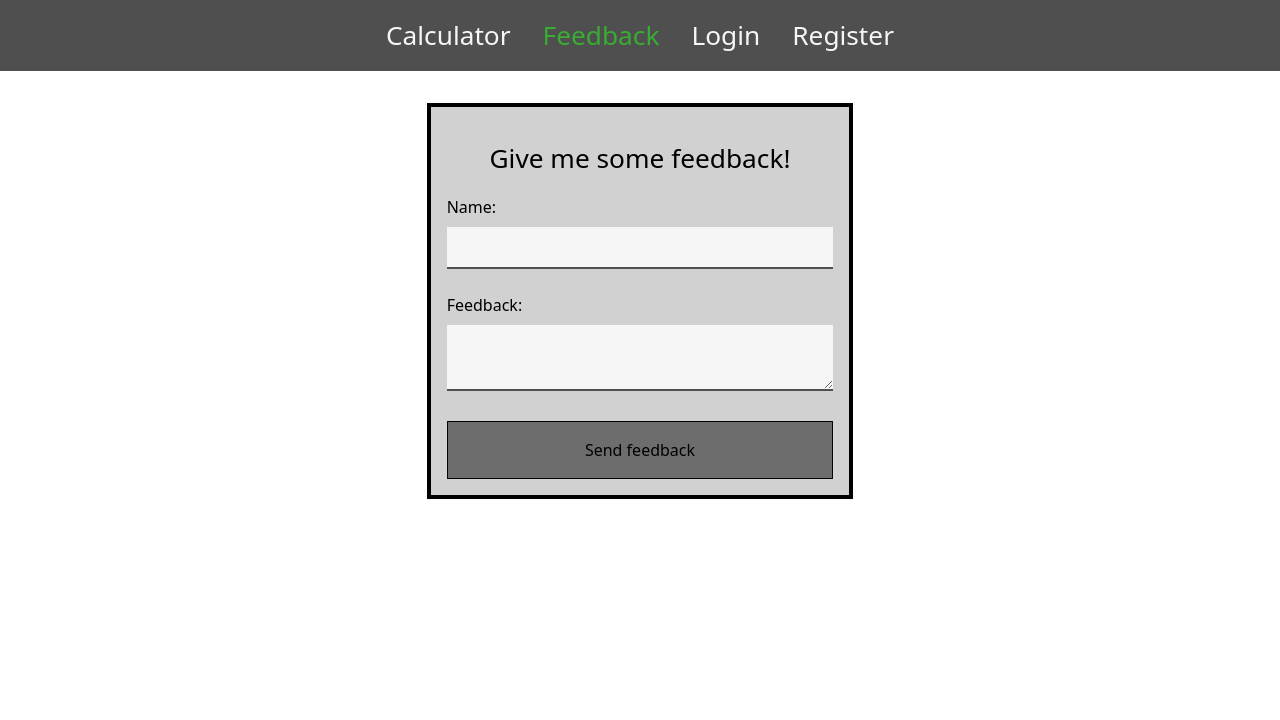
it: Test submitting feedbacks through the feedback view › Should show required error message when blurred out of name input
Step 1. Focus the field labelled "Name:" → (641, 248), box [447,227,834,269]
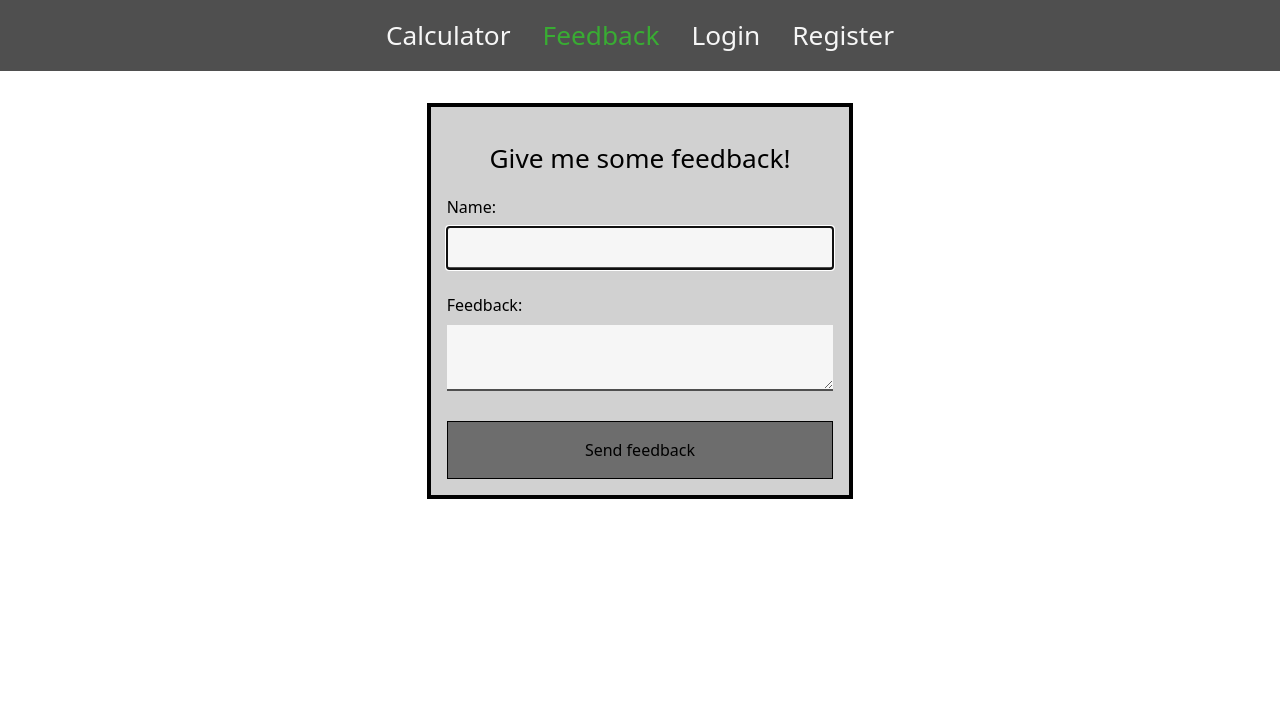
Step 2. Leave the field labelled "Name:", box [447,227,834,269]
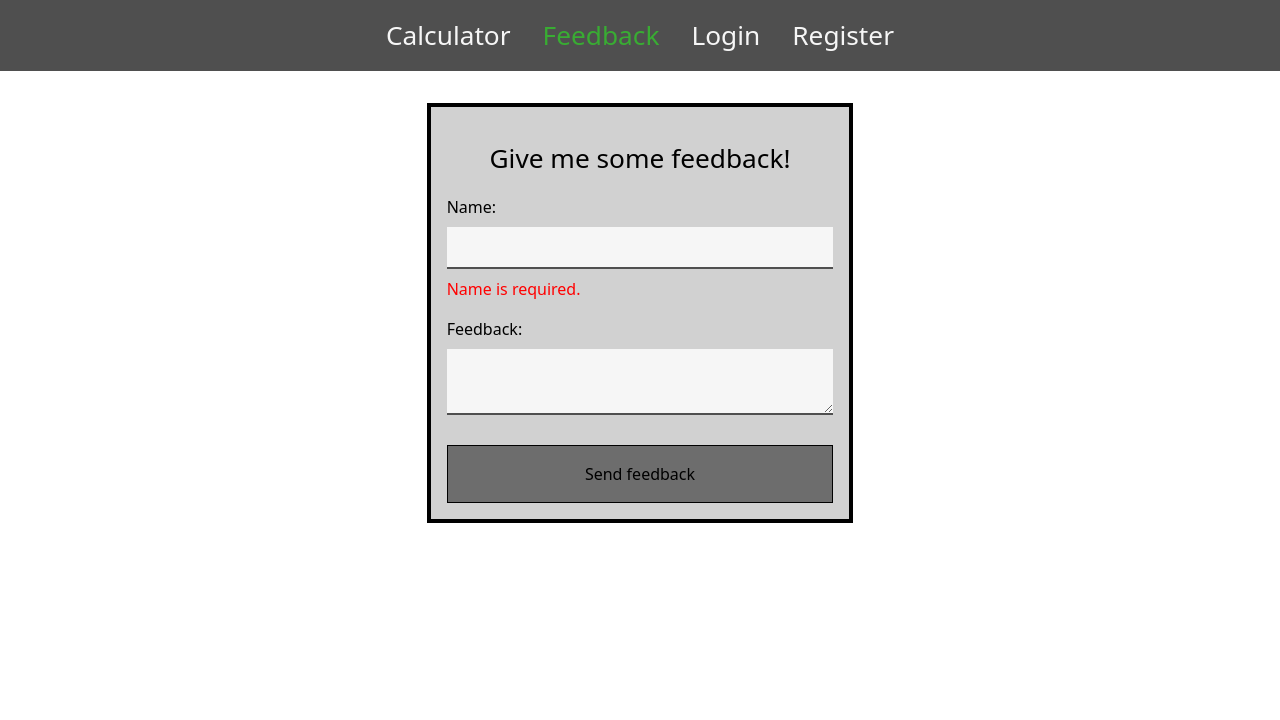
Expected: the text "Name is required." is shown, [447,278,580,300]
